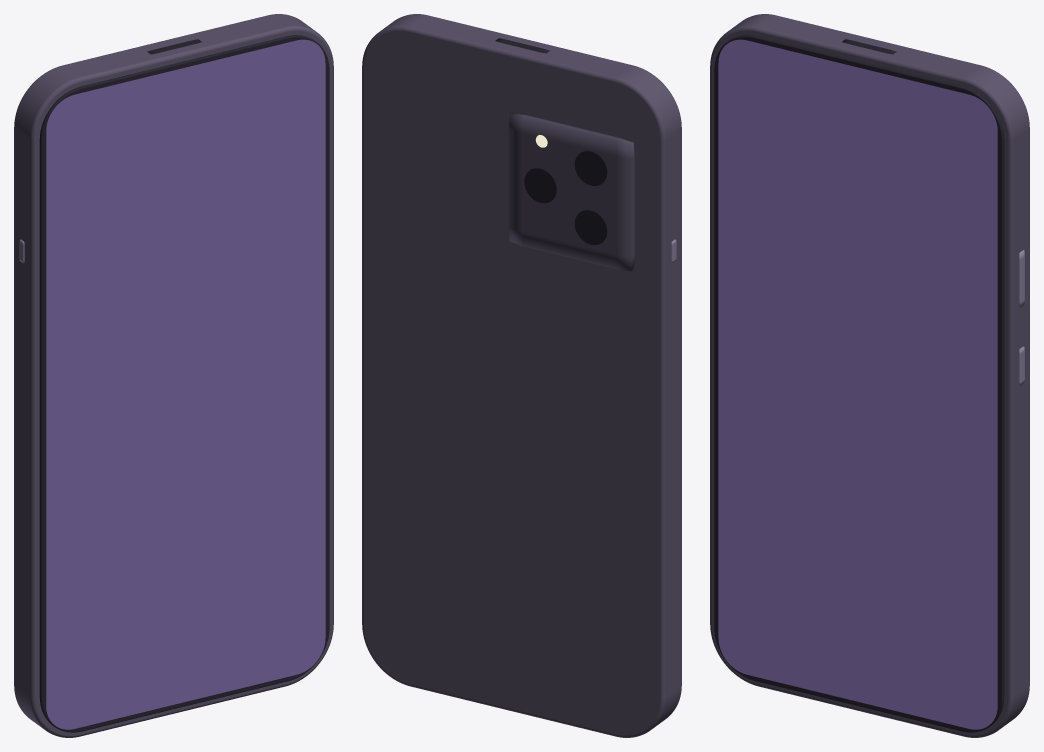
File: phone.glb
3 renders of one model, left to right at view 1: azimuth 30°, elevation 25°; view 2: azimuth 150°, elevation 25°; view 3: azimuth 330°, elevation 25°, orthographic.
Visible parts, largest first — view 1: Screen, Body, Glass; view 2: Body, CameraIsland, LensSide, LensBottom, LensTop; view 3: Screen, Body, Glass.
Part boxes in pixels (x1,y1,x2,y2): Screen: (46,39,325,729); Body: (14,14,333,737); Glass: (39,35,329,732); Body: (362,14,681,737); CameraIsland: (508,113,634,271); LensSide: (524,168,556,203); LensBottom: (574,210,607,245); LensTop: (574,151,607,185); Screen: (718,39,997,729); Body: (710,14,1029,737); Glass: (714,35,1004,732).
Bounding box in the file's own units: 1.03 × 2.12 × 0.1692.
